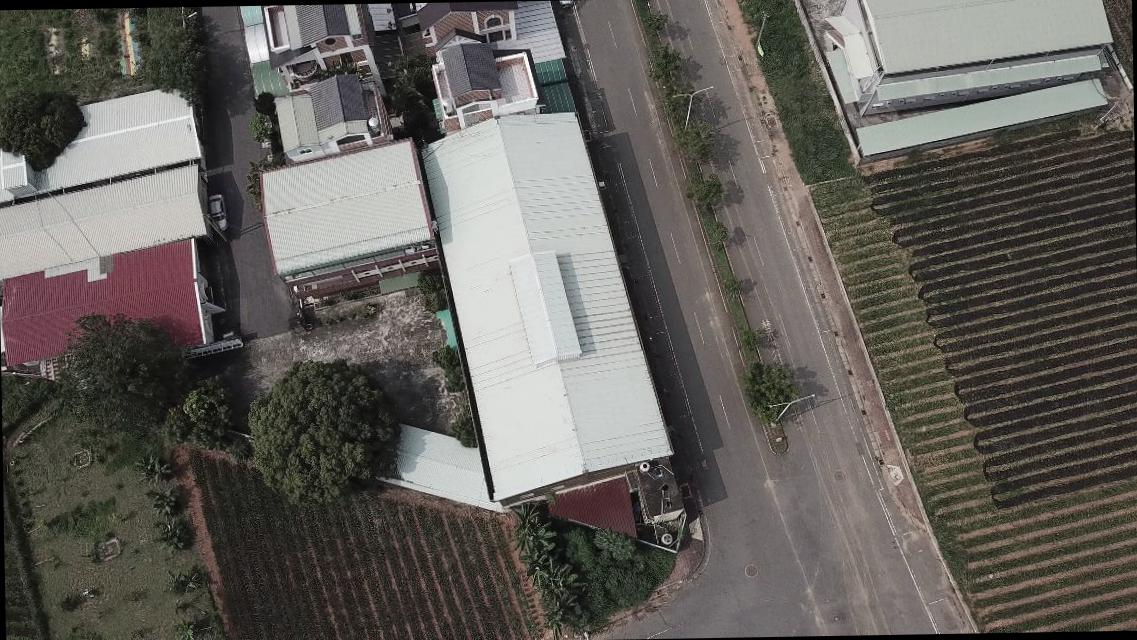vehicle: (206, 194, 226, 232)
